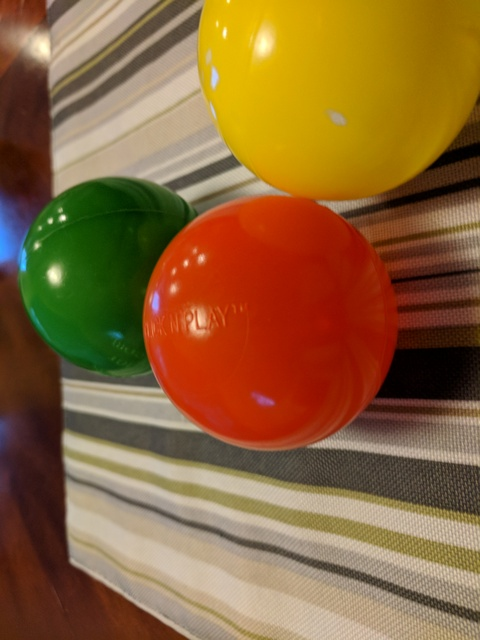Ball: (19, 177, 203, 373)
